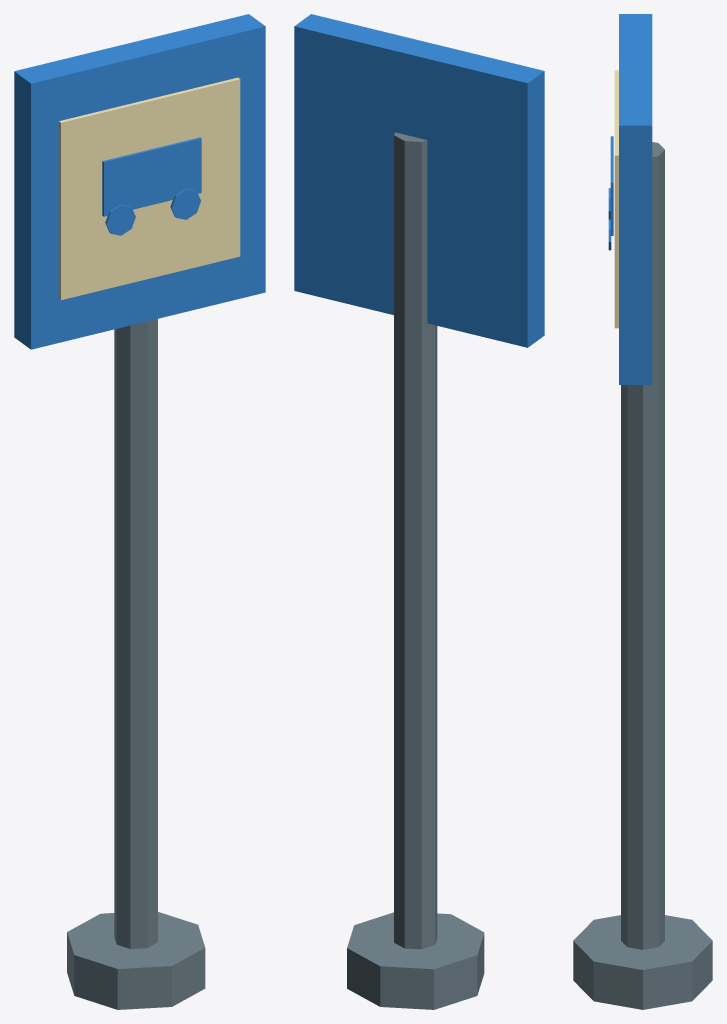
Rendered from FTF_Street_BusStopSign_2_8m.glb.
The picture shows the model from 3 angles, left to right: view 1: azimuth 30°, elevation 25°; view 2: azimuth 150°, elevation 25°; view 3: azimuth 270°, elevation 25°; orthographic projection. The views are drawn at different scales.
Parts seen in each view (by area): view 1: FTF_Street_BusStopSign_2_8m_Mesh; view 2: FTF_Street_BusStopSign_2_8m_Mesh; view 3: FTF_Street_BusStopSign_2_8m_Mesh.
Part boxes in pixels (<box>): FTF_Street_BusStopSign_2_8m_Mesh: <box>14,14,265,1009</box>; FTF_Street_BusStopSign_2_8m_Mesh: <box>294,14,544,1009</box>; FTF_Street_BusStopSign_2_8m_Mesh: <box>573,14,712,1009</box>.
Bounding box in the file's own units: 0.72 × 2.74 × 0.38.
